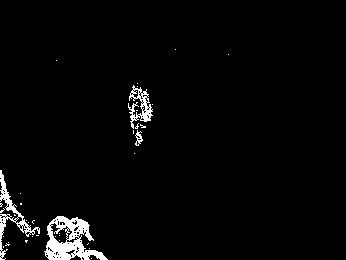person: (41, 215, 111, 260), (126, 80, 153, 149)
